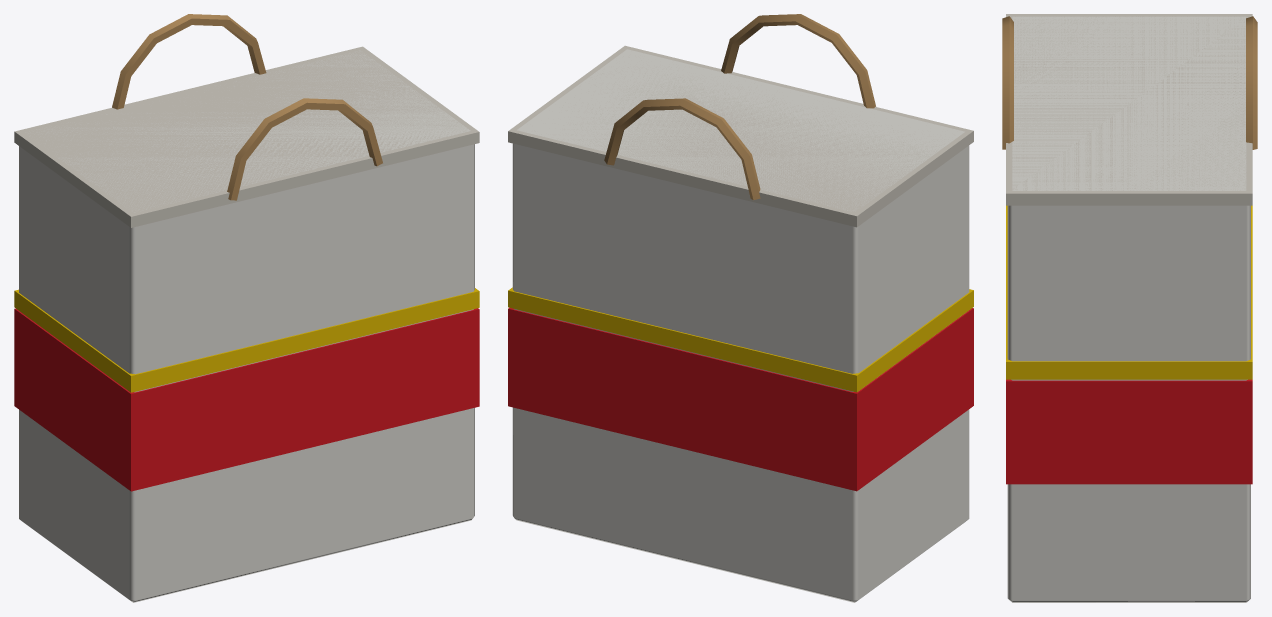
File: takeaway-bag.glb
3 renders of one model, left to right at view 1: azimuth 30°, elevation 25°; view 2: azimuth 150°, elevation 25°; view 3: azimuth 270°, elevation 25°, orthographic. The views are drawn at different scales.
Parts seen in each view (by area): view 1: BODY; view 2: BODY; view 3: BODY.
Part boxes in pixels (x1,y1,x2,y2): BODY: (14,14,479,602); BODY: (508,14,973,602); BODY: (1002,14,1257,602).
Size of the model in its own units: 0.262 by 0.3338 by 0.1572.
